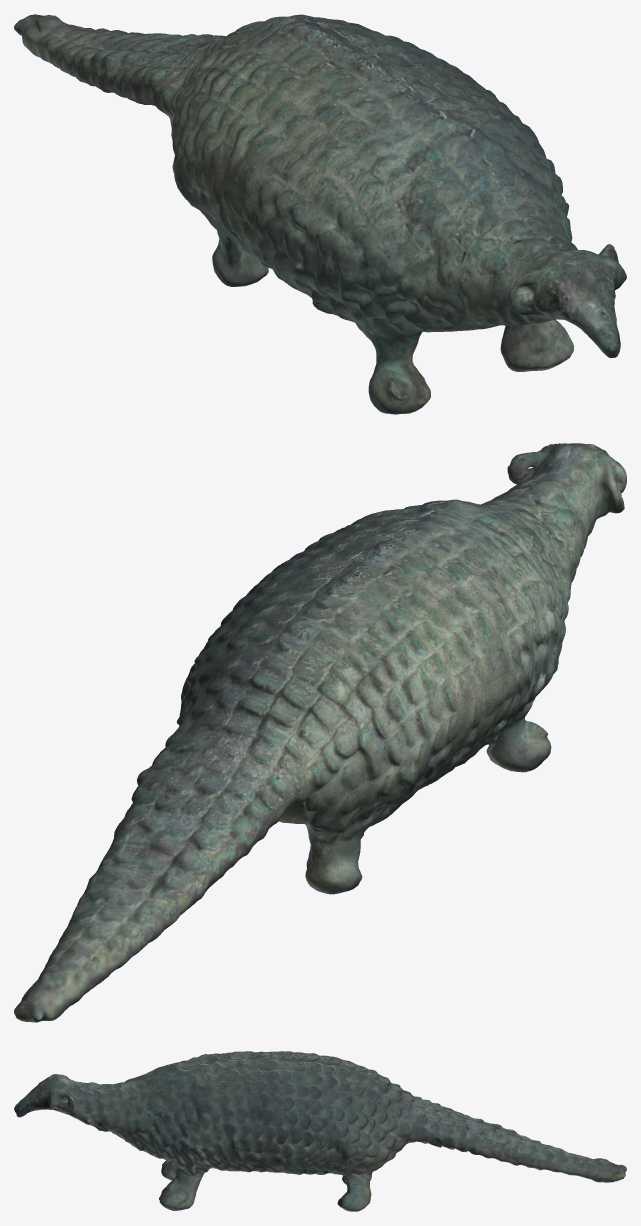
Rendered from con_trut_o_bao_tang.gltf.
The picture shows the model from 3 angles, top to bottom: view 1: azimuth 30°, elevation 25°; view 2: azimuth 150°, elevation 25°; view 3: azimuth 270°, elevation 25°; orthographic projection. The views are drawn at different scales.
Visible parts, largest first — view 1: Plane.001; view 2: Plane.001; view 3: Plane.001.
Part boxes in pixels (x1,y1,x2,y2): Plane.001: (14,14,626,414); Plane.001: (14,443,626,1022); Plane.001: (14,1051,626,1211).
Size of the model in its own units: 3.83 by 3.79 by 14.89.
Materials: 1 (1 with a texture image).
